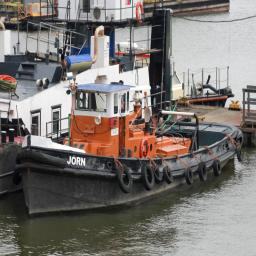tugboat: (15, 72, 245, 222)
